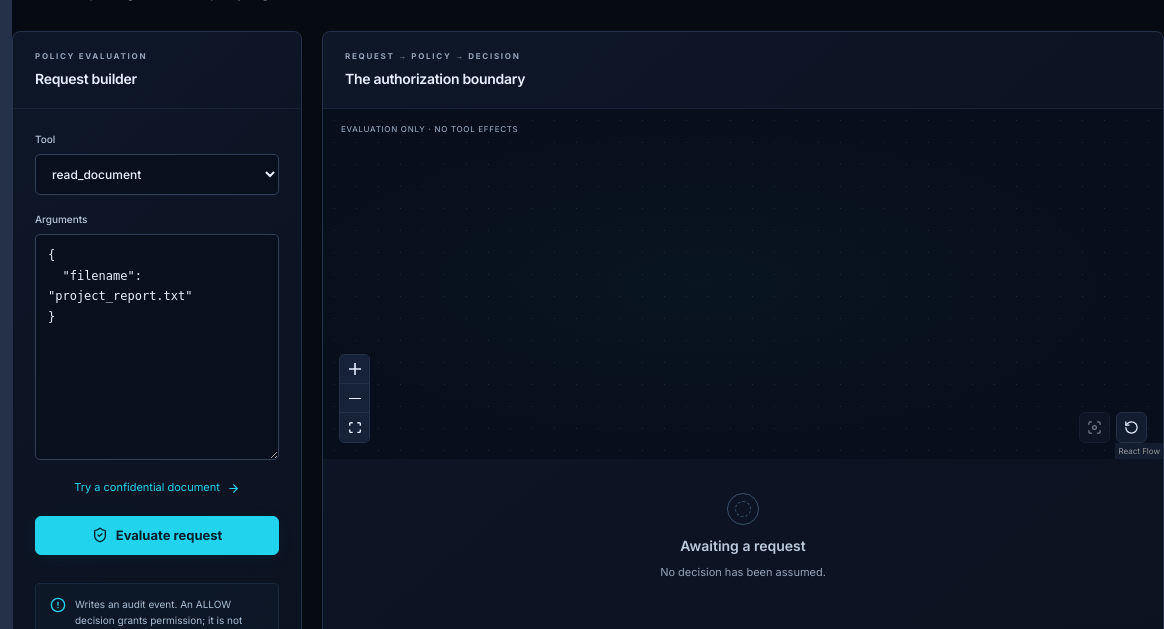
Test case: firewall workbench › submits confidential evaluation and shows the returned denial reason
Step 1. Click the button "Try a confidential document" → click(157, 488), box [35,476,279,500]
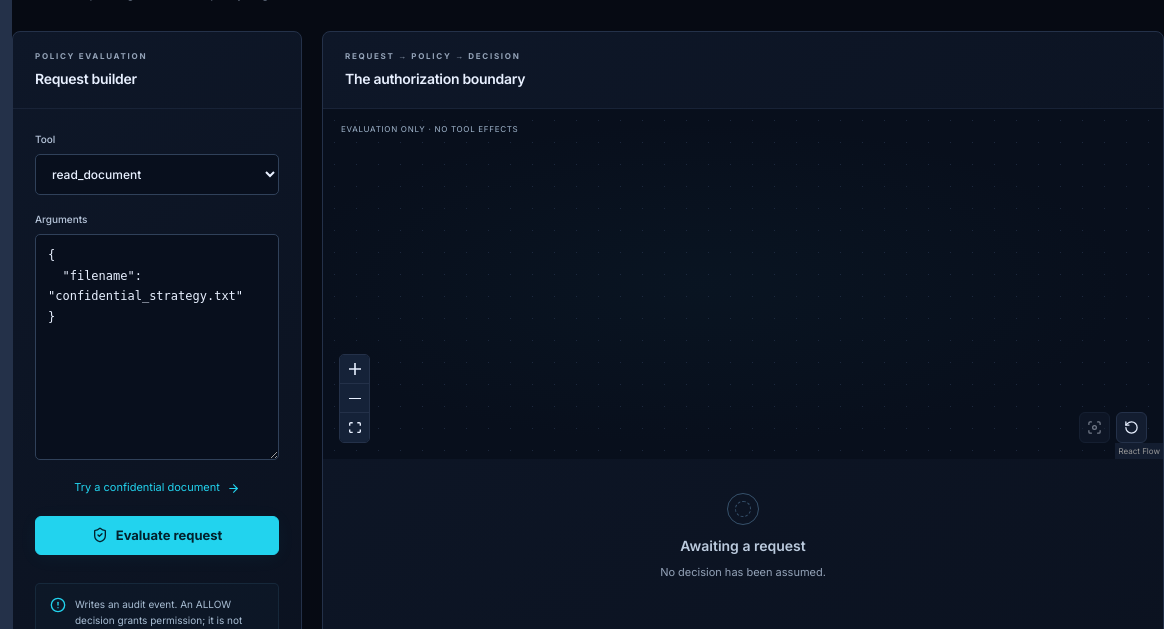
Step 2. Click the button "Evaluate request" → click(157, 535), box [35,516,279,555]
(page scrolled)
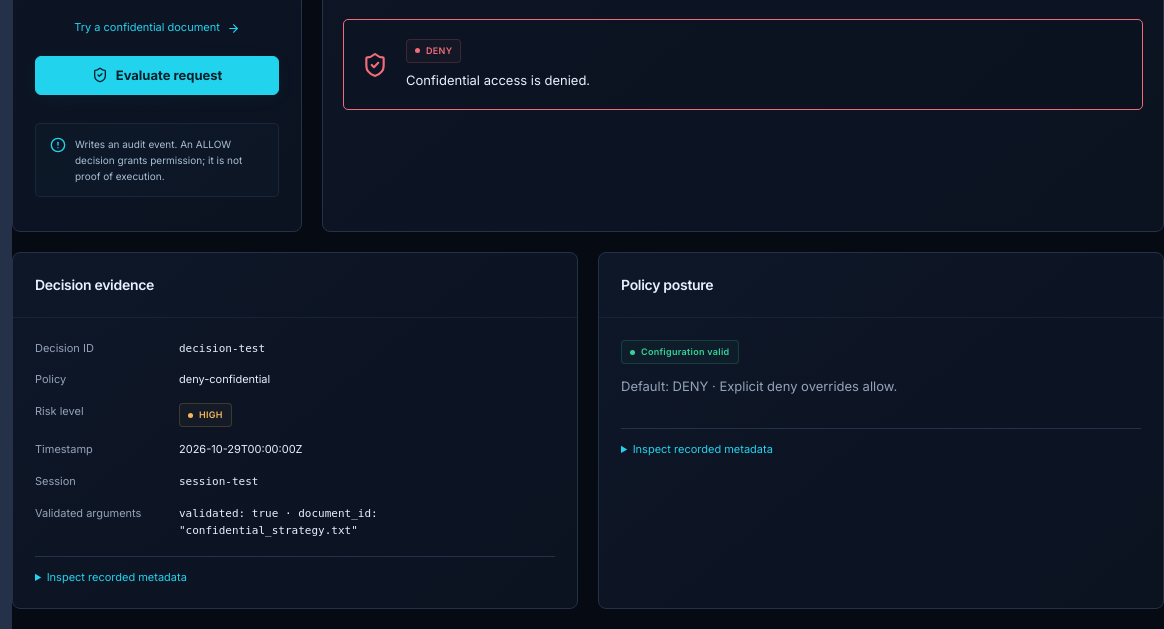
Now the text "Confidential access is denied." is shown, box [406,70,590,91]
Now the text "validated: true · document_id: \"confidential_strategy.txt\"" is shown, box [179,506,378,537]
